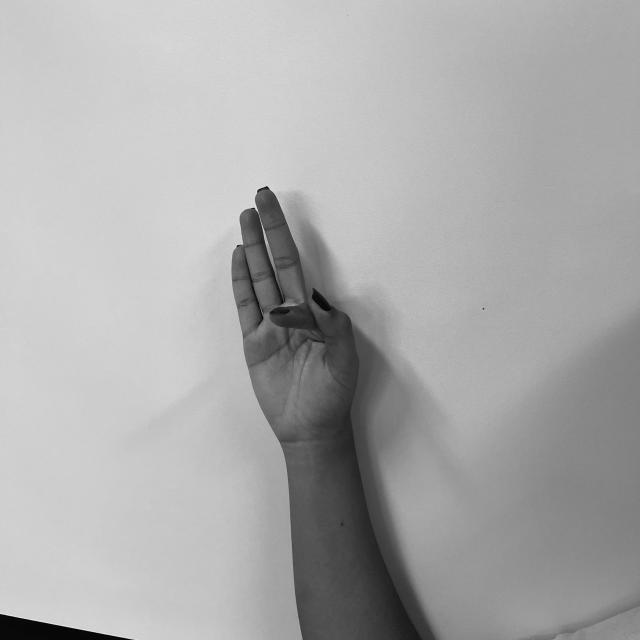Letra F: (224, 182, 366, 442)
